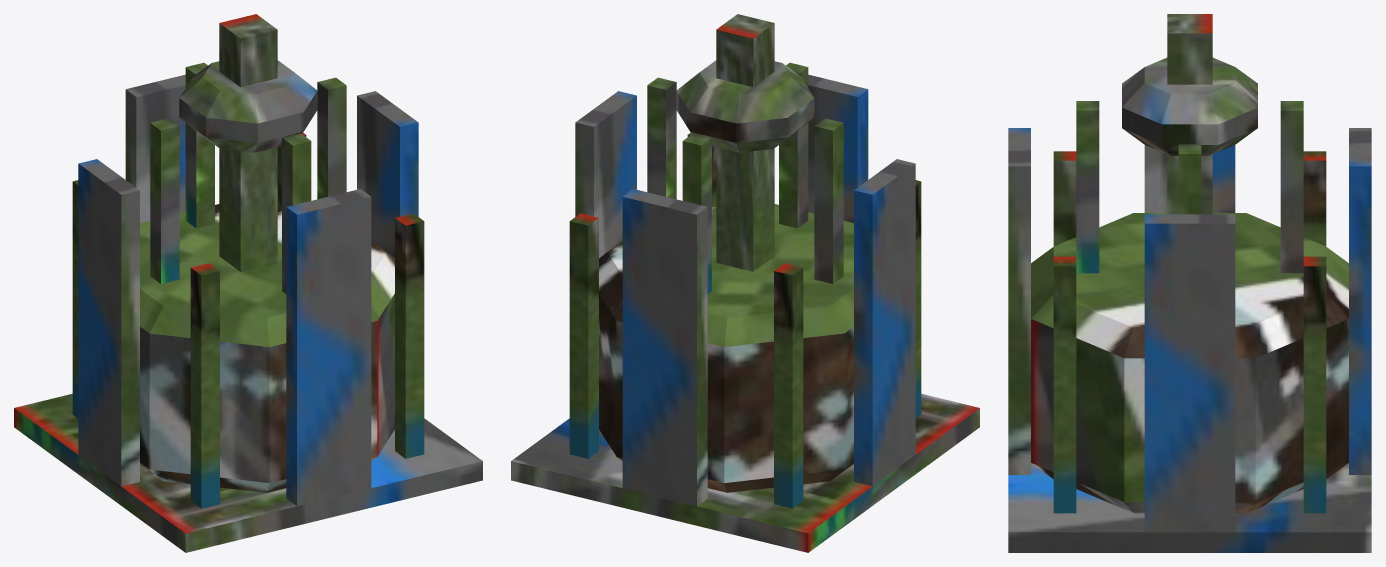
The model's file is electrostatic_compressor.obj.
The picture shows the model from 3 angles, left to right: view 1: azimuth 30°, elevation 25°; view 2: azimuth 150°, elevation 25°; view 3: azimuth 270°, elevation 25°; orthographic projection. The views are drawn at different scales.
Parts seen in each view (by area): view 1: Group_003, Group_10_001, Group_001, Group_10_003, Group_002, Group_004, Group_10_004, Group_13_001, Group_13_003, Group_10_002, Group_12_002, Group_12_001 (+3 smaller); view 2: Group_003, Group_10_002, Group_001, Group_10_003, Group_002, Group_004, Group_10_004, Group_13_004, Group_13_002, Group_10_001, Group_12_002, Group_12_001 (+3 smaller); view 3: Group_003, Group_10_004, Group_001, Group_004, Group_10_001, Group_10_002, Group_13_001, Group_13_004, Group_002, Group_12_003, Group_12_004, Group_10_003 (+3 smaller).
Boxes of the visible parts, x1,y1,x2,y2 form: Group_003: (140,204,394,492); Group_10_001: (286,189,371,506); Group_001: (14,393,482,552); Group_10_003: (78,159,139,486); Group_002: (219,14,277,271); Group_004: (179,60,317,152); Group_10_004: (357,91,418,258); Group_13_001: (395,213,424,458); Group_13_003: (190,263,219,508); Group_10_002: (125,74,185,223); Group_12_002: (150,118,179,283); Group_12_001: (317,77,346,199); Group_003: (599,204,853,492); Group_10_002: (622,189,707,506); Group_001: (511,393,979,552); Group_10_003: (854,159,915,486); Group_002: (716,14,774,271); Group_004: (676,60,814,152); Group_10_004: (575,91,636,258); Group_13_004: (569,213,598,458); Group_13_002: (774,263,803,508); Group_10_001: (808,74,868,223); Group_12_002: (814,118,843,283); Group_12_001: (647,77,676,199); Group_003: (1031,213,1348,513); Group_10_004: (1144,214,1235,532); Group_001: (1008,463,1371,552); Group_004: (1122,57,1257,155); Group_10_001: (1008,128,1030,474); Group_10_002: (1349,128,1371,474); Group_13_001: (1053,256,1076,513); Group_13_004: (1303,256,1326,513); Group_002: (1167,14,1212,214); Group_12_003: (1076,101,1099,273); Group_12_004: (1280,101,1303,273); Group_10_003: (1144,145,1235,212).
Size of the model in its own units: 16 by 22 by 16.
